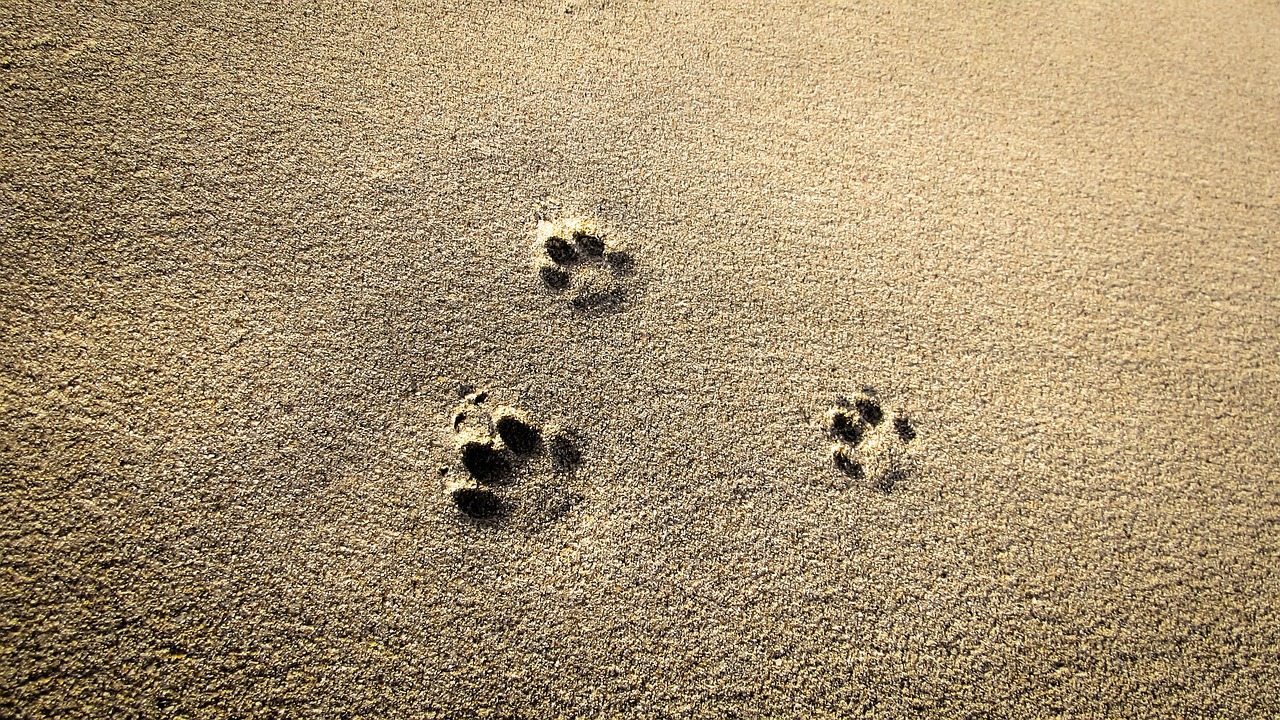cat: (450, 409, 585, 551), (817, 391, 922, 498), (533, 224, 638, 330)
